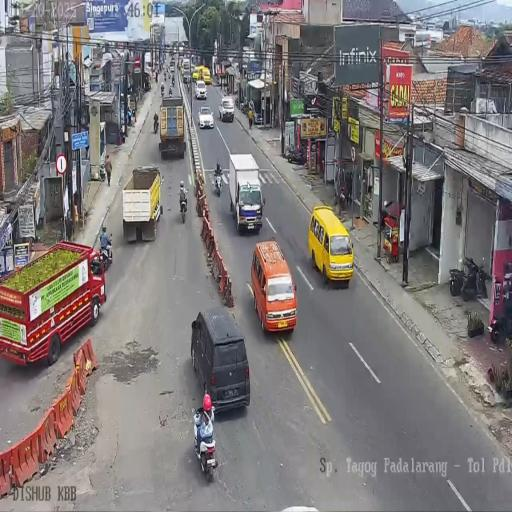car: (193, 304, 255, 407), (250, 242, 296, 334), (310, 203, 354, 284), (218, 96, 234, 122), (197, 105, 214, 129), (194, 80, 207, 100), (201, 66, 211, 85), (192, 66, 201, 81), (170, 54, 174, 65)
motorcycle: (194, 407, 220, 483), (449, 256, 488, 302), (489, 275, 512, 344), (284, 143, 306, 165), (213, 166, 223, 197), (180, 191, 188, 223), (240, 99, 248, 115), (153, 116, 159, 134), (156, 60, 162, 76), (168, 85, 173, 97), (160, 84, 164, 96), (171, 75, 175, 87), (154, 72, 158, 83), (235, 97, 238, 108), (164, 72, 166, 82)
truck: (1, 239, 108, 365), (122, 164, 162, 242), (227, 152, 260, 233), (159, 94, 186, 160), (182, 57, 190, 73)
